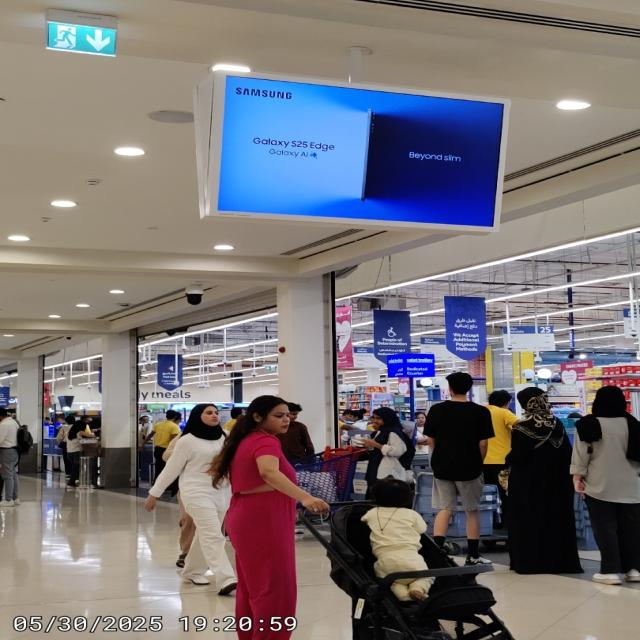digital-board: (209, 71, 510, 232)
